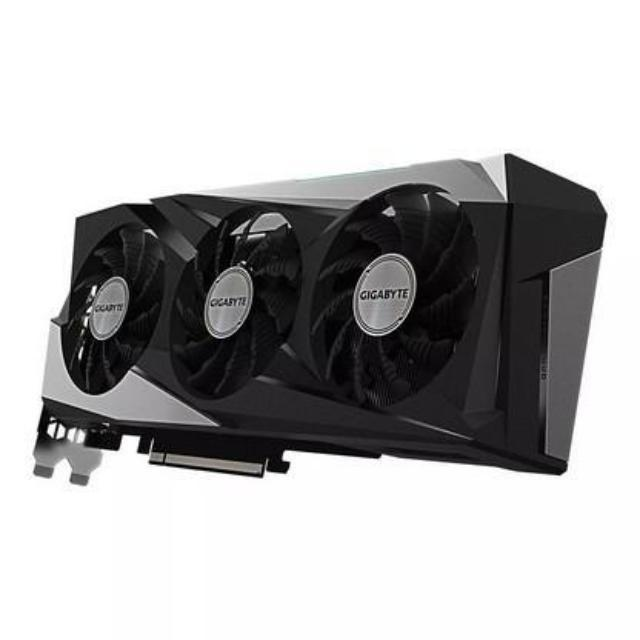GPU: (49, 172, 588, 488)
